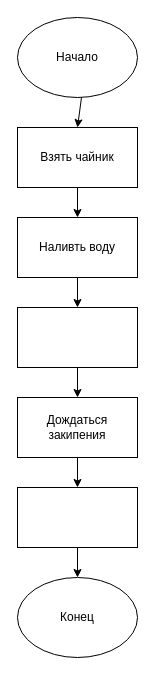
Image size: 155x675. Some labels were removed from this diagram. Here are the shapes that lost their labels. From the top down, the centre of each, then its label:
At point (77, 337): "Поставить на плиту".
At point (77, 517): "Налить в чашку".
